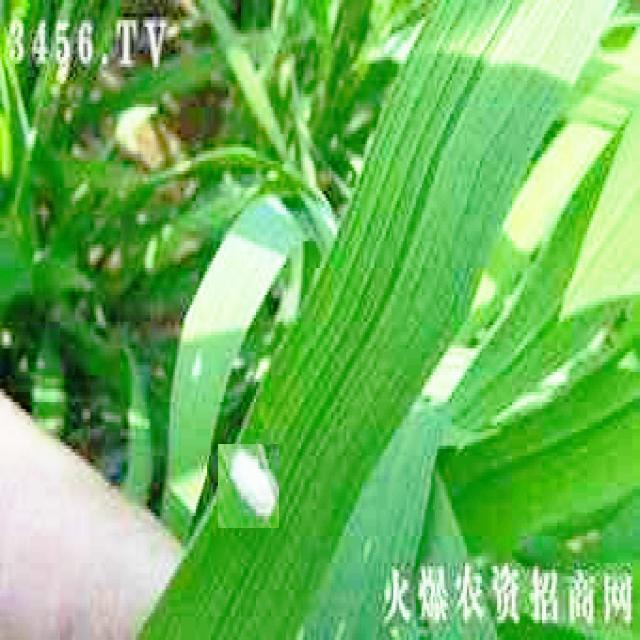whorl-maggot: (218, 444, 279, 528)
